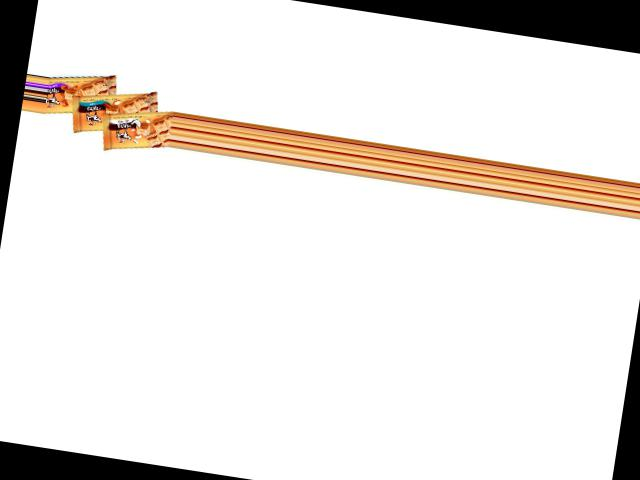chocolate: (42, 69, 124, 126)
